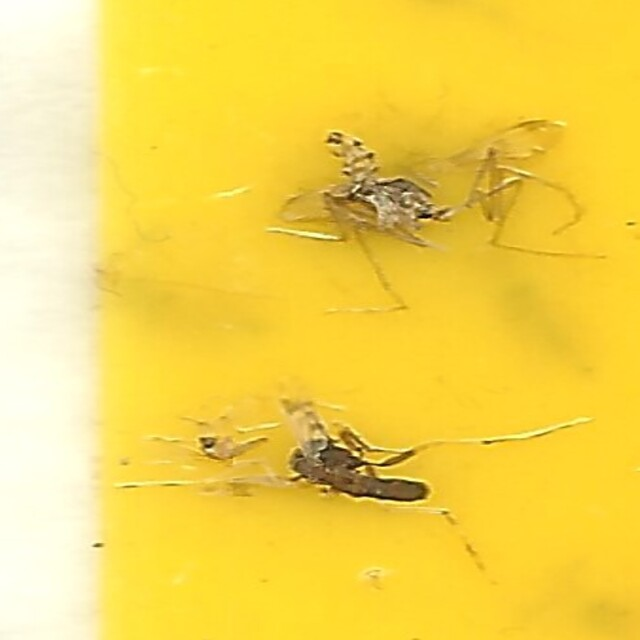Nematocera: (292, 129, 451, 268), (288, 434, 443, 511), (189, 420, 275, 467)
